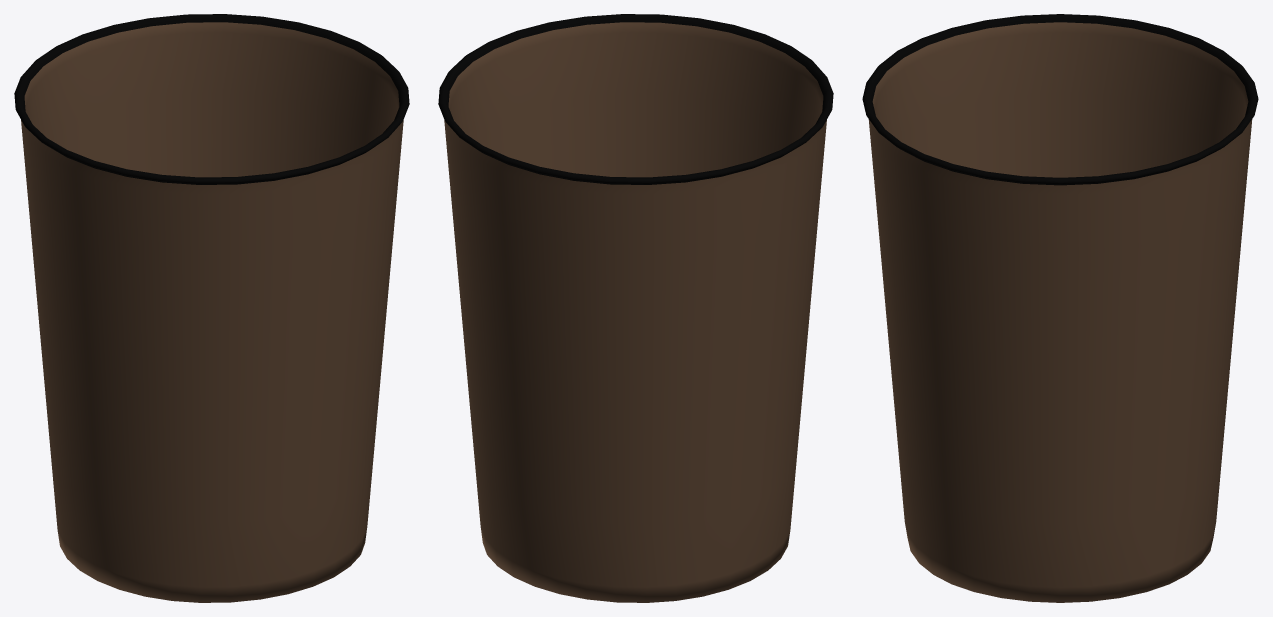
The model's file is Coffee Cup.fbx.
3 views of the same model, side by side, from view 1: azimuth 30°, elevation 25°; view 2: azimuth 150°, elevation 25°; view 3: azimuth 270°, elevation 25° (orthographic).
Parts seen in each view (by area): view 1: Coffee Cup; view 2: Coffee Cup; view 3: Coffee Cup.
Part boxes in pixels (x1=…): Coffee Cup: x1=14, y1=14, x2=409, y2=602; Coffee Cup: x1=438, y1=14, x2=833, y2=602; Coffee Cup: x1=862, y1=14, x2=1258, y2=602.
Size of the model in its own units: 0.0921 by 0.1135 by 0.0921.
